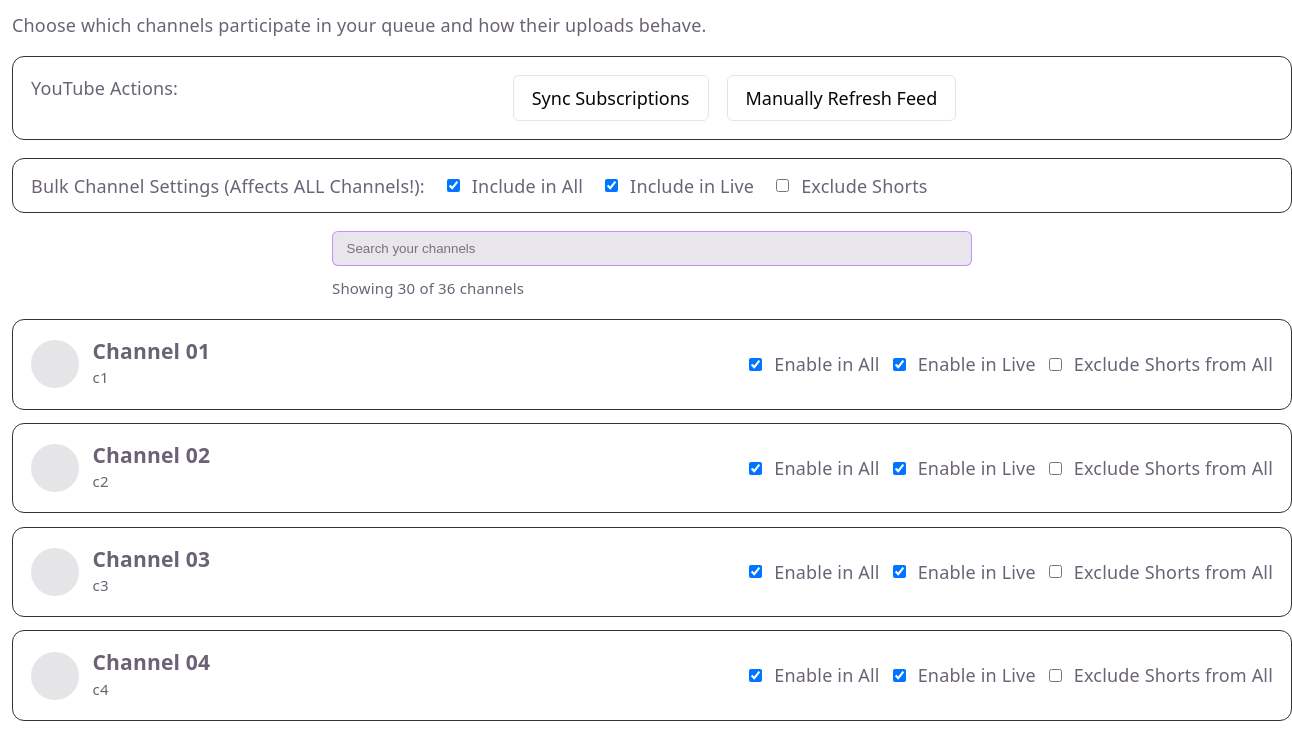
it: ChannelsSettingsPage › filters by search text and resets back to the first page
This screenshot has width=1292, height=732.
Expected: the heading "Channel 01" is shown, [92,338,210,364]
In the field with placeholder "Search your channels": (652, 249) [332,231,972,266], type "Zebra"
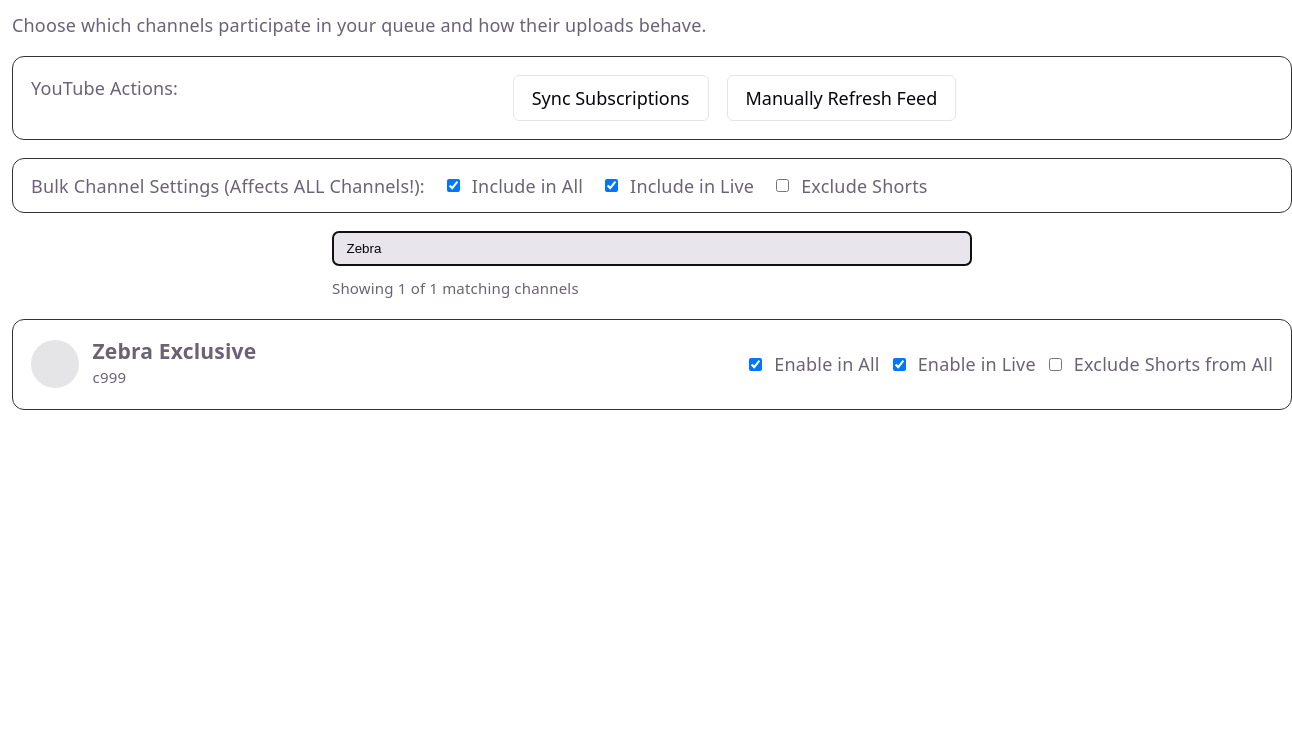
Expected: the heading "Zebra Exclusive" is shown, [92,338,256,364]
Expected: the heading "Channel 01" is gone
Expected: the text "Showing 1 of 1 matching channels" is shown, [332,278,579,298]
